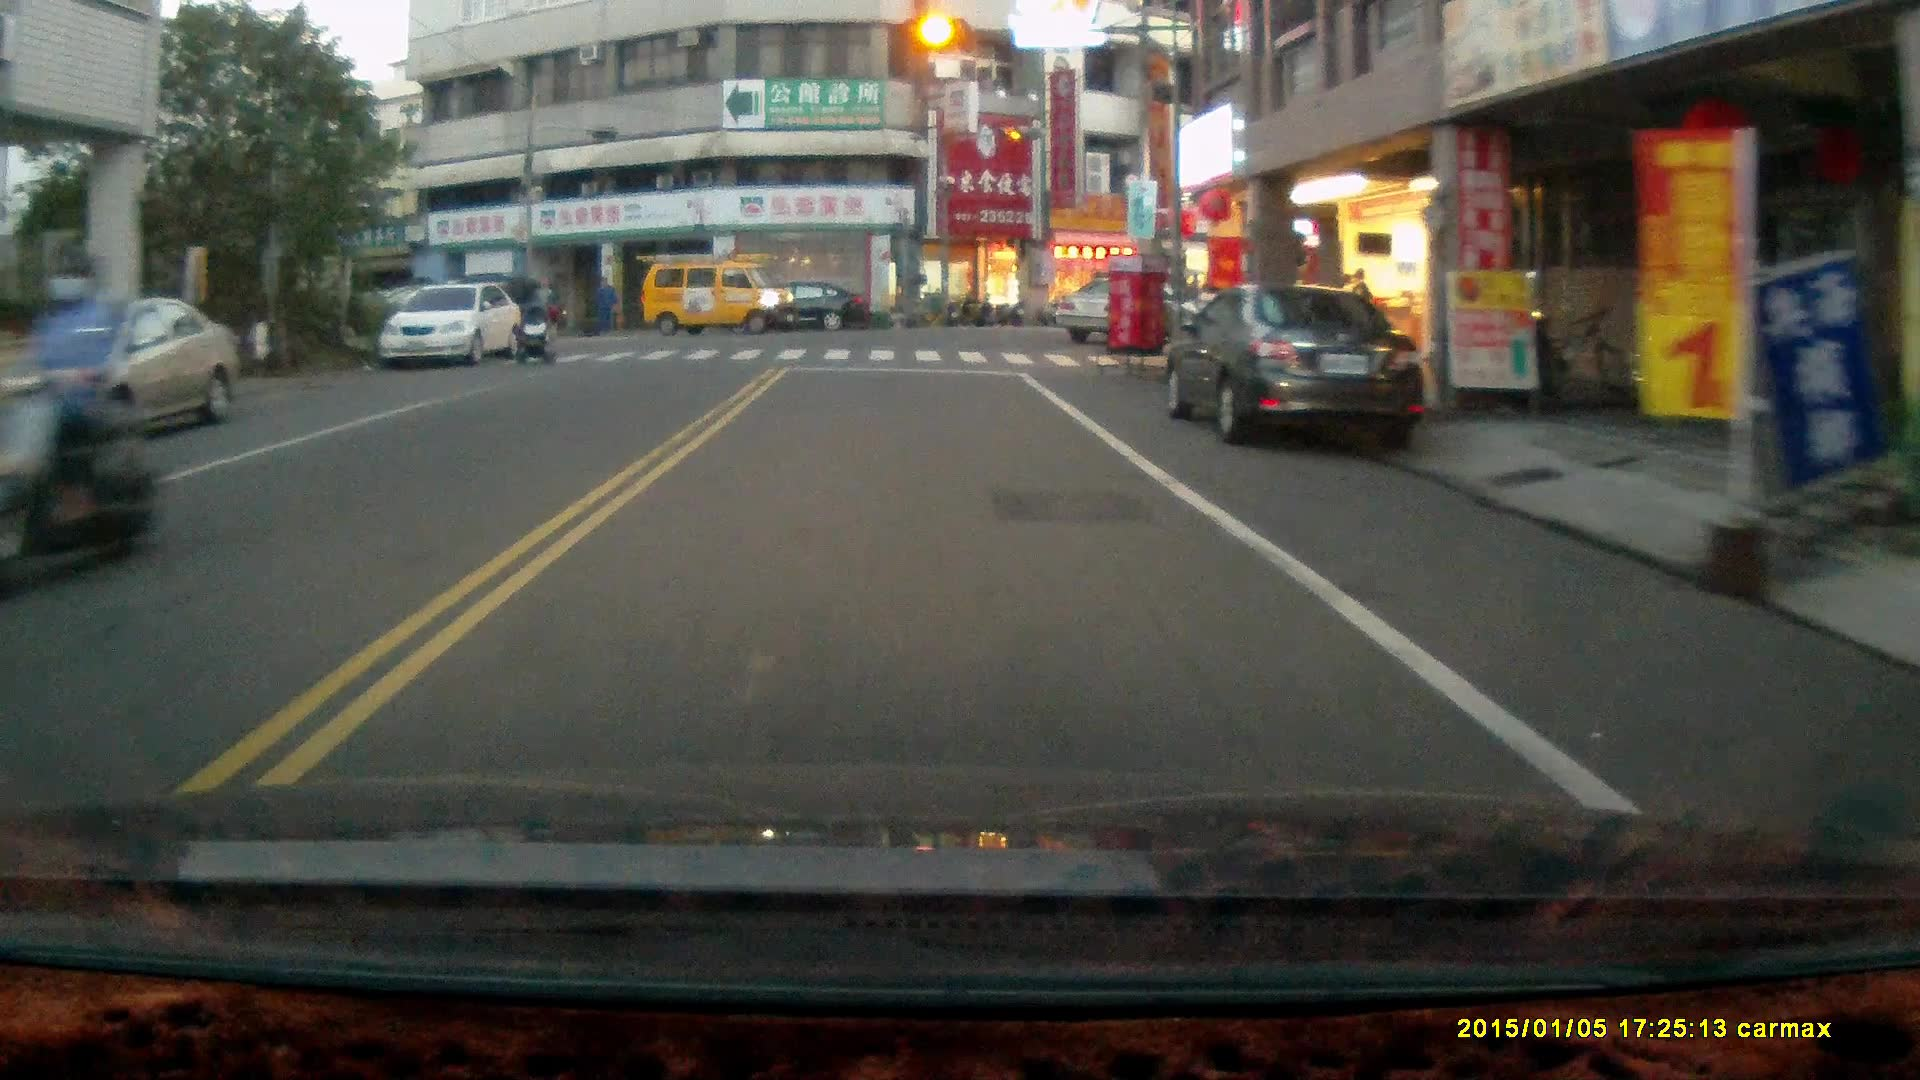pedestrian: (530, 274, 556, 347), (594, 274, 616, 335)
rider: (0, 251, 159, 595), (510, 301, 560, 368)
vehicle: (1163, 285, 1430, 451), (8, 296, 231, 451), (641, 251, 800, 333), (384, 288, 524, 374), (1050, 276, 1203, 350), (750, 283, 869, 334)
